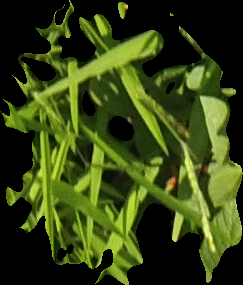grass: (1, 1, 241, 283)
